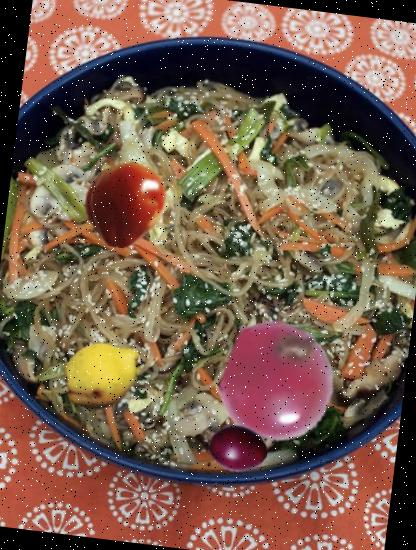Quince: (56, 330, 148, 422)
Redcurrant: (211, 316, 344, 448)
Tamarillo: (198, 412, 272, 486)
Tomato: (76, 156, 174, 255)
